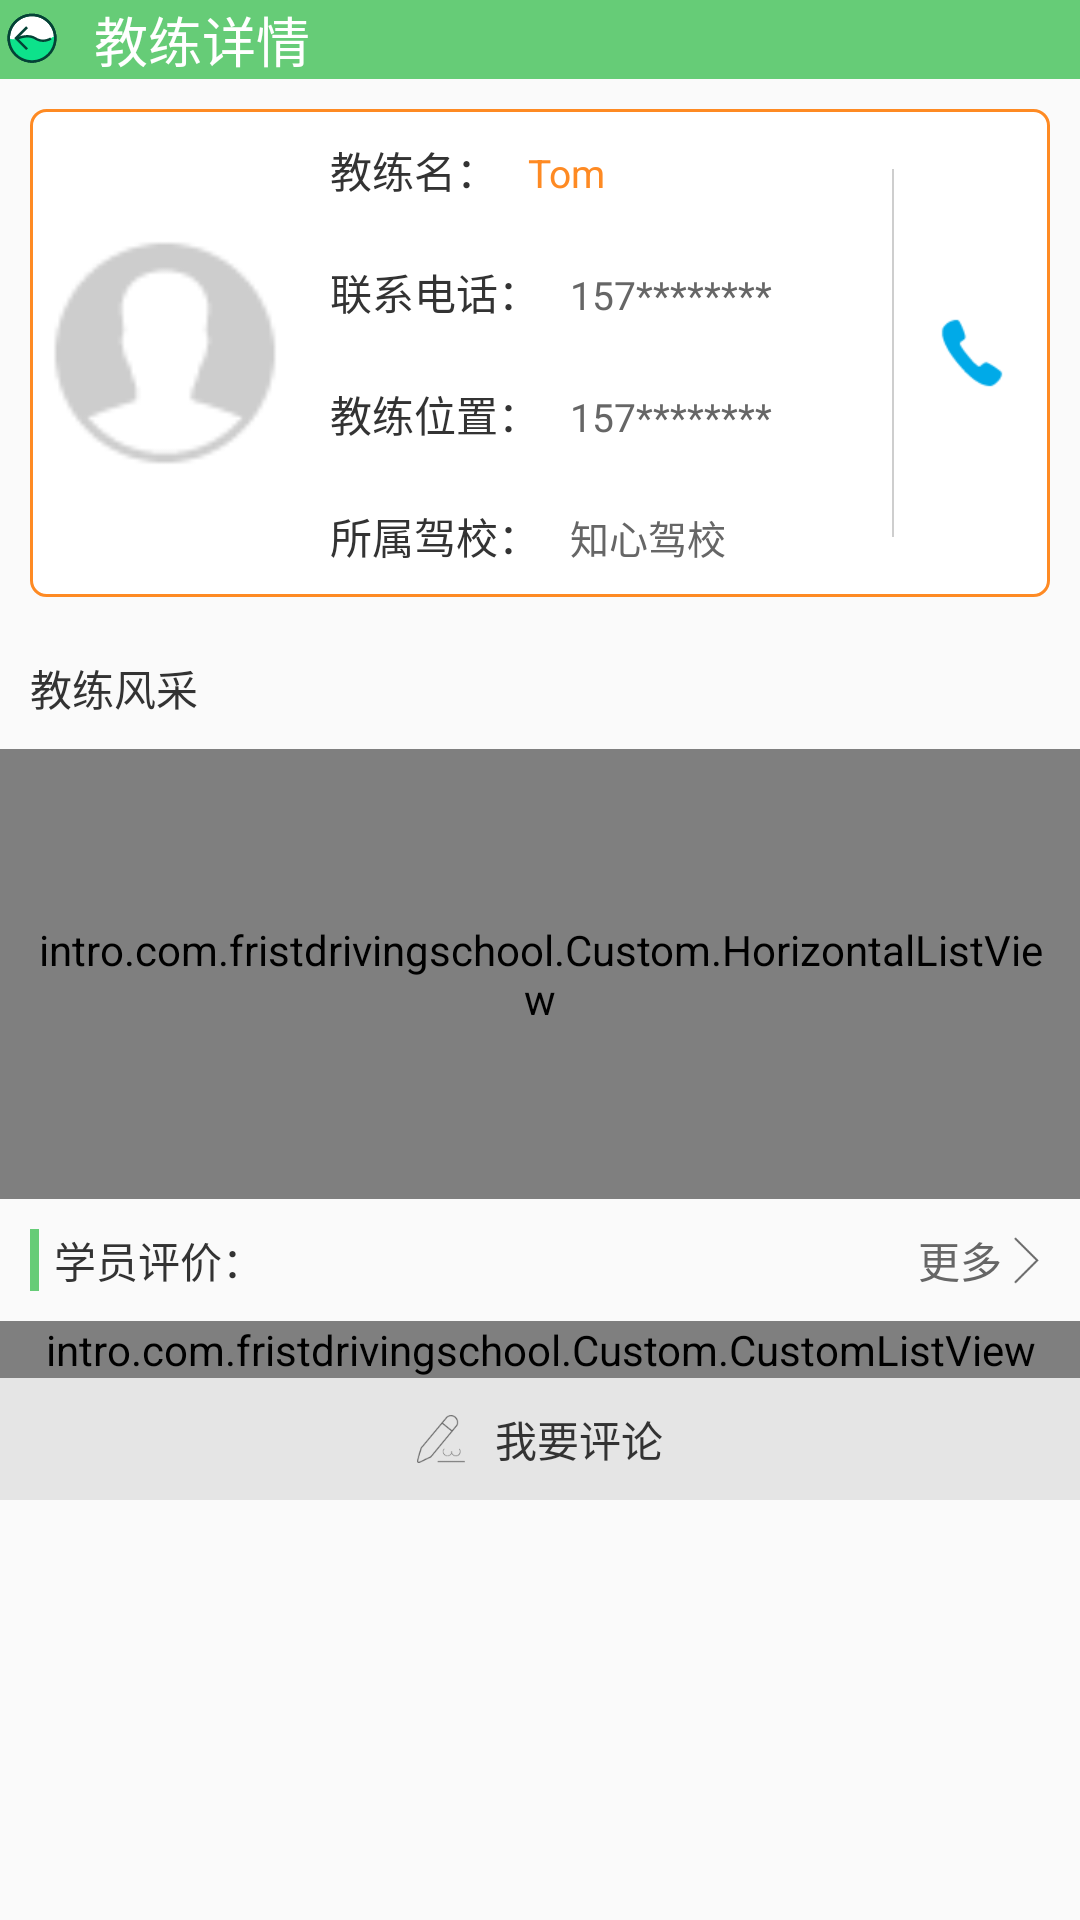

Point at icon controls on the screen. Image size 1080 x 1920, points as point (x, y).
head: point (165, 353)
phone: point (972, 353)
